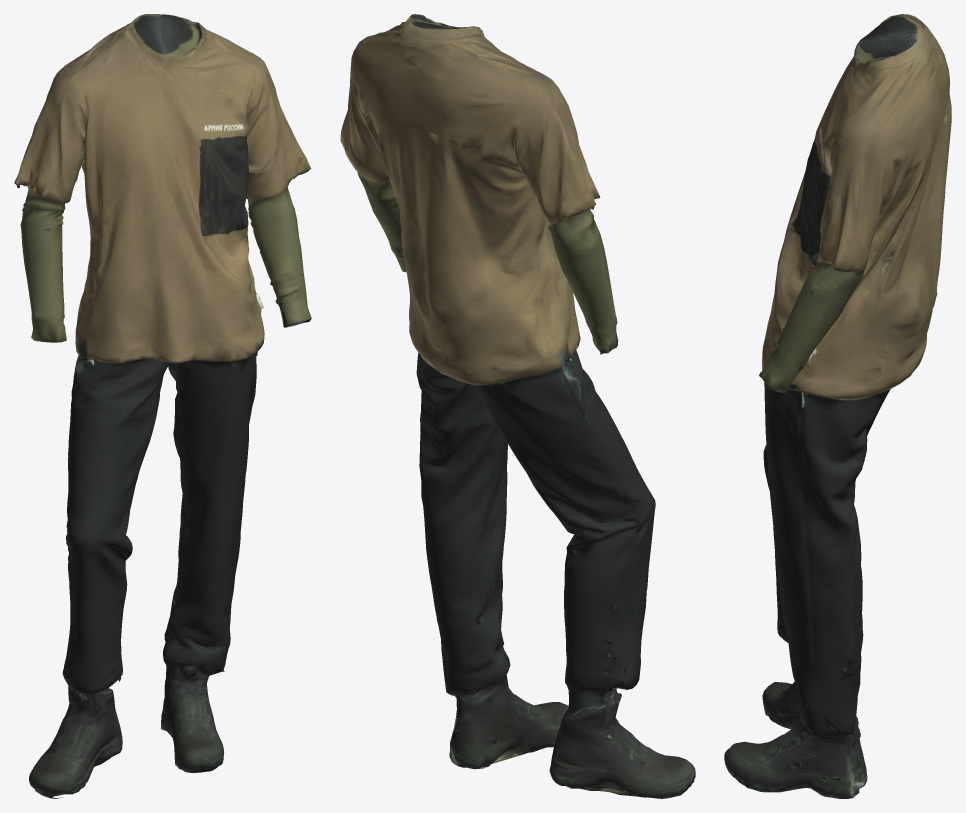
The model's file is DudeWithPants.fbx.
3 views of the same model, side by side, from view 1: azimuth 30°, elevation 25°; view 2: azimuth 150°, elevation 25°; view 3: azimuth 270°, elevation 25° (orthographic). The views are drawn at different scales.
Visible parts, largest first — view 1: bezh muzh v shtanah; view 2: bezh muzh v shtanah; view 3: bezh muzh v shtanah.
Boxes of the visible parts, x1,y1,x2,y2 form: bezh muzh v shtanah: (14,14,311,798); bezh muzh v shtanah: (340,14,695,798); bezh muzh v shtanah: (724,14,951,798).
Bounding box in the file's own units: 74.11 × 166 × 44.72.
